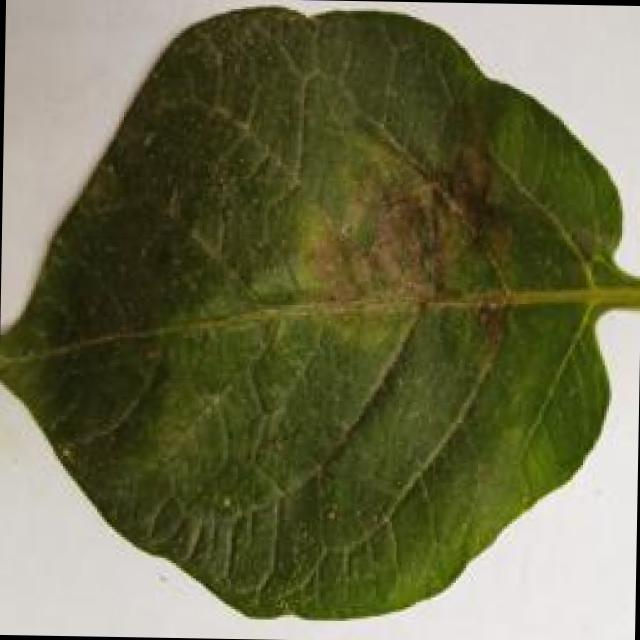Potato_Late_Blight: (2, 0, 633, 630)
